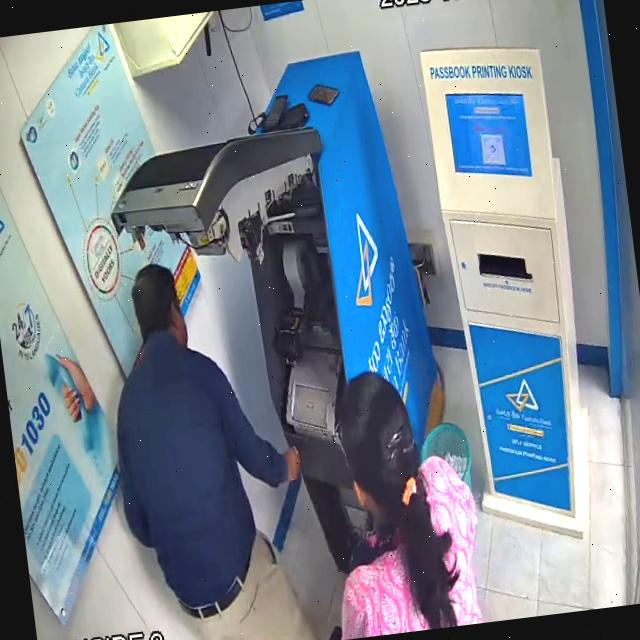no_helmet: (338, 369, 430, 542), (130, 264, 188, 346)
